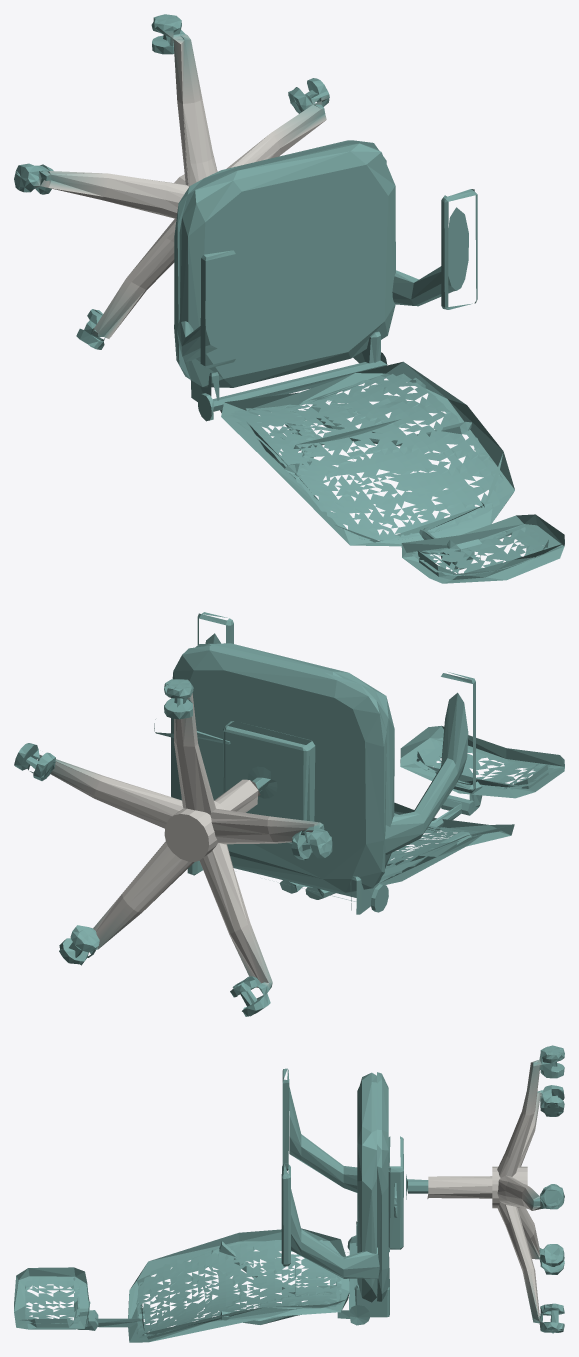
Rendered from chair_03_articraft_closed.glb.
The picture shows the model from 3 angles, top to bottom: view 1: azimuth 30°, elevation 25°; view 2: azimuth 150°, elevation 25°; view 3: azimuth 270°, elevation 25°; orthographic projection. The views are drawn at different scales.
Parts seen in each view (by area): view 1: p0; view 2: p0; view 3: p0.
Boxes of the visible parts, <box> form: p0: <box>14,14,564,583</box>; p0: <box>14,612,564,1016</box>; p0: <box>14,1045,564,1342</box>.
Size of the model in its own units: 0.7143 by 0.7503 by 1.37.
